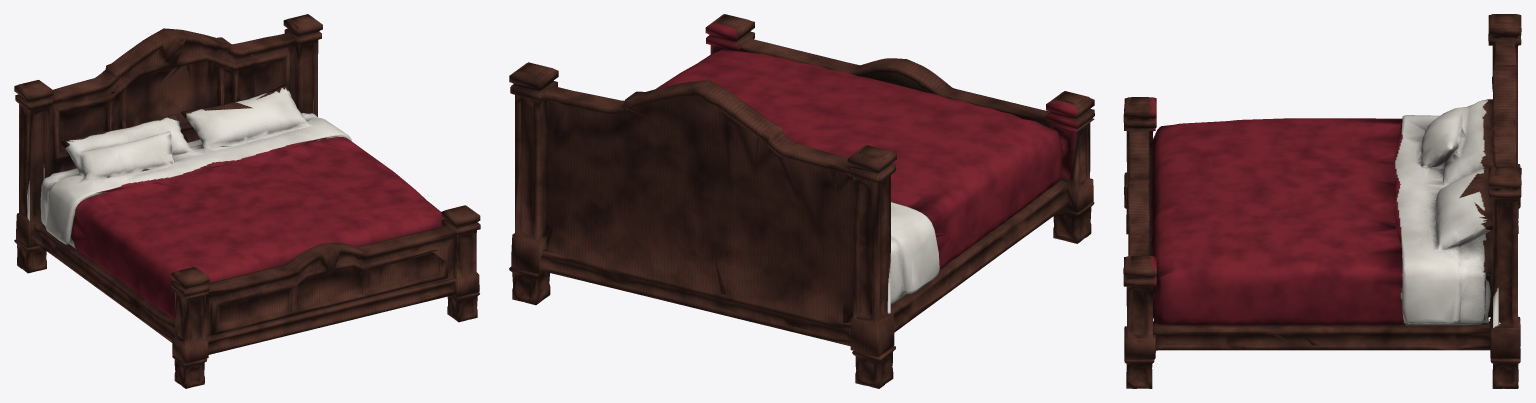
Rendered from Bed.glb.
The picture shows the model from 3 angles, left to right: view 1: azimuth 30°, elevation 25°; view 2: azimuth 150°, elevation 25°; view 3: azimuth 270°, elevation 25°; orthographic projection. The views are drawn at different scales.
Visible parts, largest first — view 1: Bed; view 2: Bed; view 3: Bed.
Part boxes in pixels (left/top/right/bottom): Bed: left=14, top=14, right=480, bottom=388; Bed: left=509, top=14, right=1094, bottom=388; Bed: left=1123, top=14, right=1521, bottom=388.
Bounding box in the file's own units: 2.2 × 1.43 × 2.2.
Materials: 1 (1 with a texture image).
